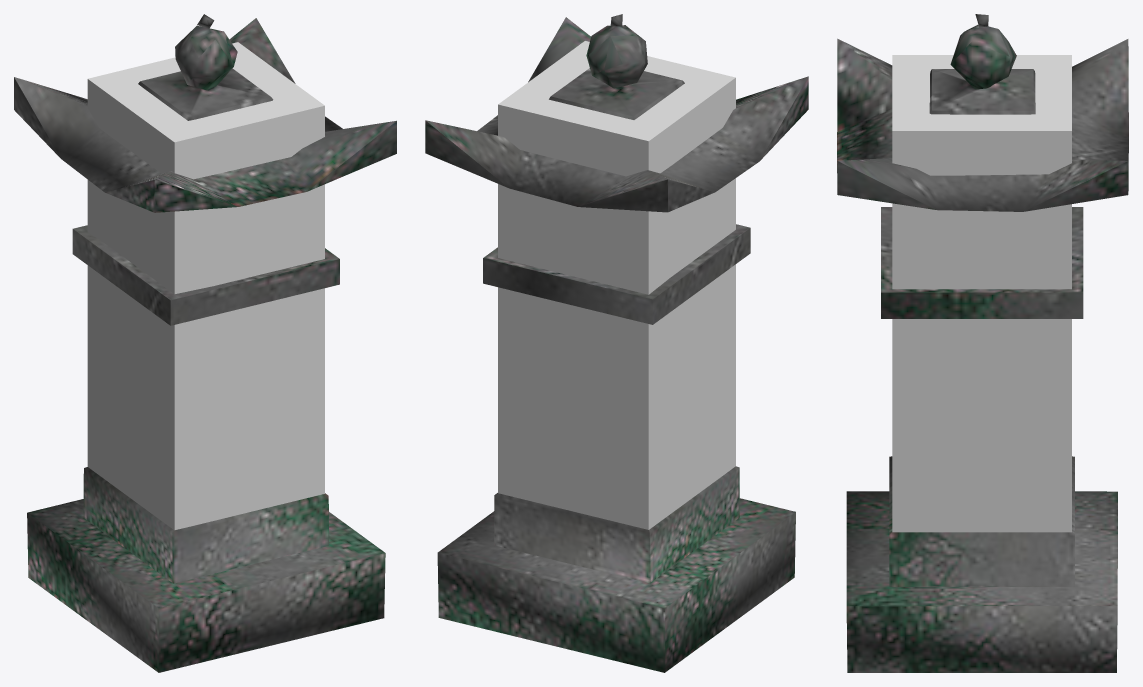
Rendered from streetLantern.glb.
3 renders of one model, left to right at view 1: azimuth 30°, elevation 25°; view 2: azimuth 150°, elevation 25°; view 3: azimuth 270°, elevation 25°, orthographic. The views are drawn at different scales.
Visible parts, largest first — view 1: body, pCube2; view 2: body, pCube2; view 3: pCube2, body.
Part boxes in pixels (x1=…): body: x1=87, y1=42, x2=324, y2=530; pCube2: x1=14, y1=14, x2=396, y2=672; body: x1=498, y1=41, x2=735, y2=529; pCube2: x1=425, y1=14, x2=808, y2=672; pCube2: x1=837, y1=14, x2=1128, y2=672; body: x1=892, y1=55, x2=1071, y2=532.
Size of the model in its own units: 2.63 by 6.01 by 2.64.
Materials: 1 (1 with a texture image).
